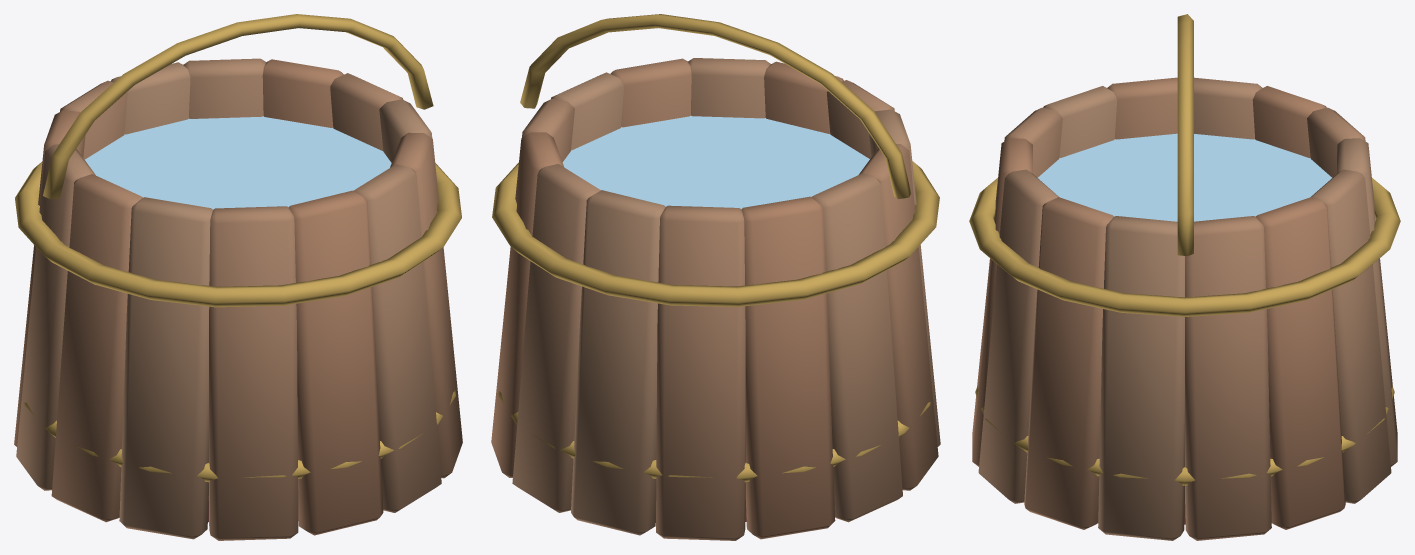
File: bucket.glb
3 views of the same model, side by side, from view 1: azimuth 30°, elevation 25°; view 2: azimuth 150°, elevation 25°; view 3: azimuth 270°, elevation 25° (orthographic). The views are drawn at different scales.
Parts seen in each view (by area): view 1: bucket; view 2: bucket; view 3: bucket.
Part boxes in pixels (x1=…): bucket: x1=14, y1=14, x2=462, y2=540; bucket: x1=491, y1=14, x2=940, y2=540; bucket: x1=969, y1=14, x2=1400, y2=540.
Size of what is drawn, in the model's own units: 0.42 by 0.44 by 0.42.
